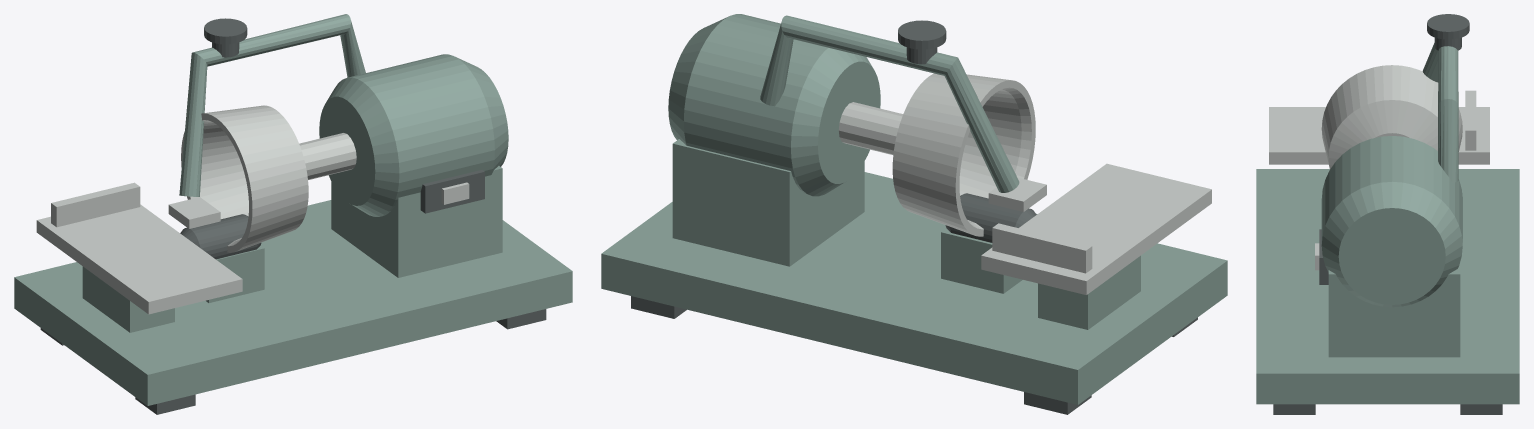
3 views of the same model, side by side, from view 1: azimuth 30°, elevation 25°; view 2: azimuth 150°, elevation 25°; view 3: azimuth 270°, elevation 25° (orthographic). The views are drawn at different scales.
Visible parts, largest first — view 1: WholeLowMachineBed, WholeRoundedHorizontalDriveHousing, WholeBluntOpenBellCup, WholeLeftApproachTable, WholeDrivePedestal, WholeUpperPresserArm, WholeApproachTableSeat, WholeShortSideGuide, WholeHorizontalCupSpindle, WholeIndependentShortFeedRoll, WholeFrontSwitchSeat, WholeLowFeedBearing (+4 smaller); view 2: WholeLowMachineBed, WholeRoundedHorizontalDriveHousing, WholeDrivePedestal, WholeBluntOpenBellCup, WholeLeftApproachTable, WholeUpperPresserArm, WholeApproachTableSeat, WholeShortSideGuide, WholeLowFeedBearing, WholeHorizontalCupSpindle, WholeIndependentShortFeedRoll, WholeUpperBlankAdjuster (+3 smaller); view 3: WholeLowMachineBed, WholeRoundedHorizontalDriveHousing, WholeDrivePedestal, WholeBluntOpenBellCup, WholeLeftApproachTable, WholeUpperPresserArm, WholeUpperBlankAdjuster, WholeShortSideGuide, WholeFoot_0.23_-0.115, WholeFoot_0.23_0.105, WholeFrontSwitchSeat.
Part boxes in pixels (<box>): WholeLowMachineBed: <box>14,200,572,405</box>; WholeRoundedHorizontalDriveHousing: <box>319,54,508,216</box>; WholeBluntOpenBellCup: <box>181,105,308,252</box>; WholeLeftApproachTable: <box>36,204,242,314</box>; WholeDrivePedestal: <box>331,166,502,277</box>; WholeUpperPresserArm: <box>179,14,365,196</box>; WholeApproachTableSeat: <box>82,266,174,332</box>; WholeShortSideGuide: <box>51,182,140,227</box>; WholeHorizontalCupSpindle: <box>299,133,356,179</box>; WholeIndependentShortFeedRoll: <box>180,214,261,259</box>; WholeFrontSwitchSeat: <box>420,170,484,213</box>; WholeLowFeedBearing: <box>206,245,264,302</box>; WholeLowMachineBed: <box>601,172,1227,404</box>; WholeRoundedHorizontalDriveHousing: <box>668,14,880,196</box>; WholeDrivePedestal: <box>672,139,864,266</box>; WholeBluntOpenBellCup: <box>892,73,1035,236</box>; WholeLeftApproachTable: <box>981,163,1211,294</box>; WholeUpperPresserArm: <box>760,15,1019,192</box>; WholeApproachTableSeat: <box>1038,255,1140,329</box>; WholeShortSideGuide: <box>992,223,1092,273</box>; WholeLowFeedBearing: <box>941,228,1022,293</box>; WholeHorizontalCupSpindle: <box>838,102,903,154</box>; WholeIndependentShortFeedRoll: <box>945,193,1036,242</box>; WholeUpperBlankAdjuster: <box>898,20,946,64</box>; WholeLowMachineBed: <box>1256,169,1519,404</box>; WholeRoundedHorizontalDriveHousing: <box>1321,136,1462,307</box>; WholeDrivePedestal: <box>1328,262,1460,357</box>; WholeBluntOpenBellCup: <box>1321,65,1462,169</box>; WholeLeftApproachTable: <box>1269,107,1489,164</box>; WholeUpperPresserArm: <box>1422,43,1458,182</box>; WholeUpperBlankAdjuster: <box>1427,14,1469,50</box>; WholeShortSideGuide: <box>1465,90,1476,150</box>; WholeFoot_0.23_-0.115: <box>1273,404,1315,414</box>; WholeFoot_0.23_0.105: <box>1460,404,1502,414</box>; WholeFrontSwitchSeat: <box>1319,229,1328,284</box>.
Size of the model in its own units: 0.57 by 0.364 by 0.31.
